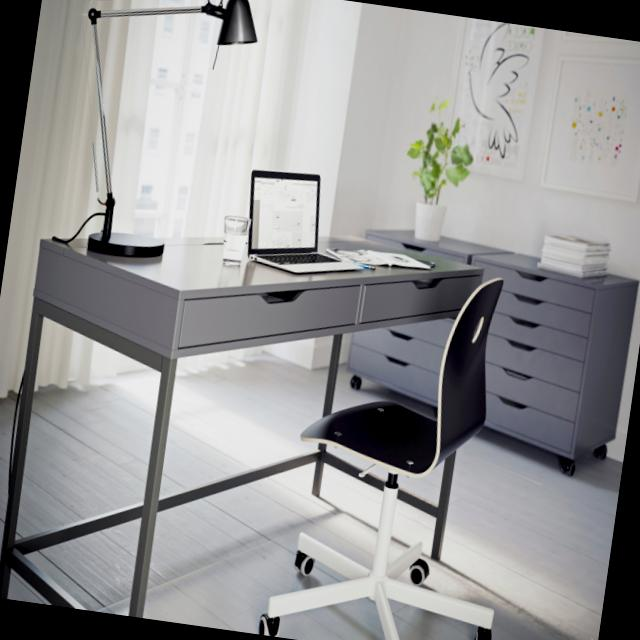obstacle: (0, 191, 547, 640)
